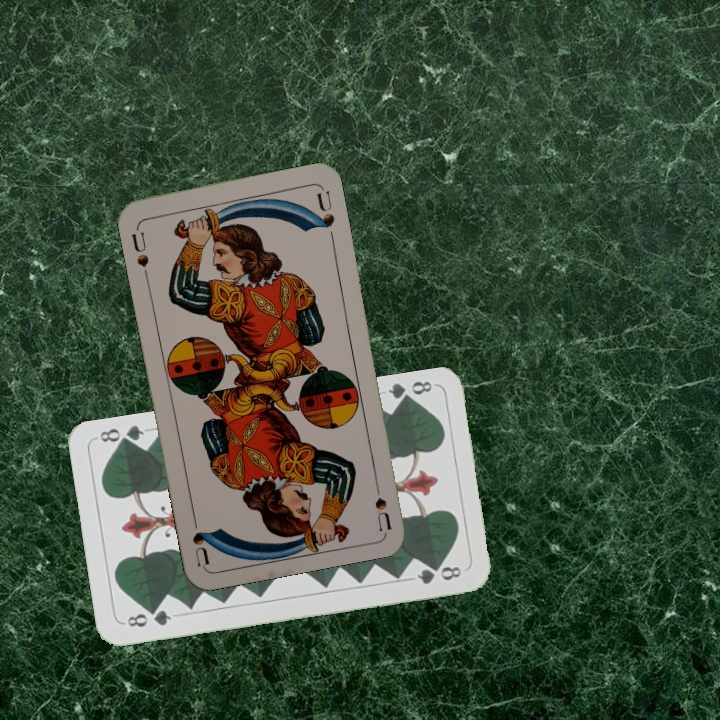G8: (384, 377, 435, 408), (123, 605, 174, 630)
SU: (127, 222, 152, 281), (369, 472, 394, 531)
